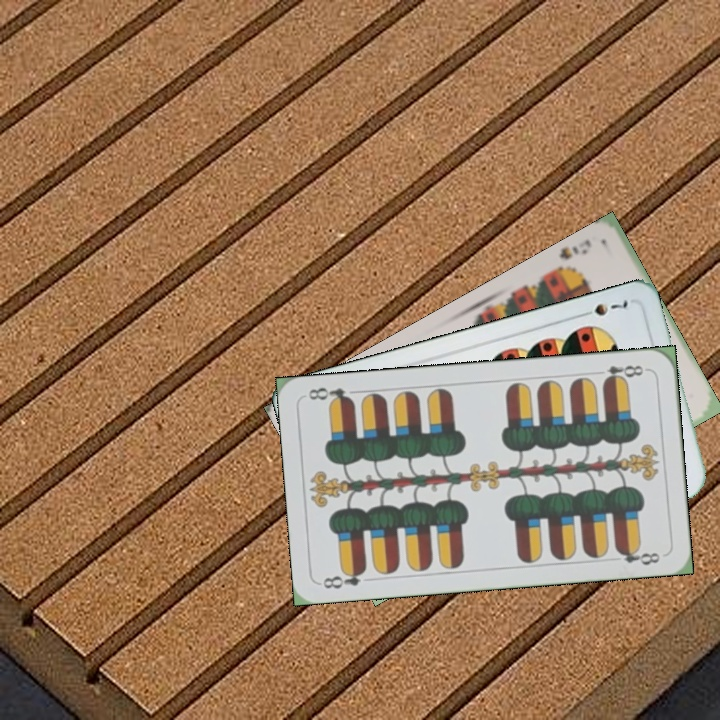E8: (591, 361, 650, 386), (319, 564, 369, 592)
S7: (575, 294, 631, 320)
S9: (548, 235, 595, 276)
